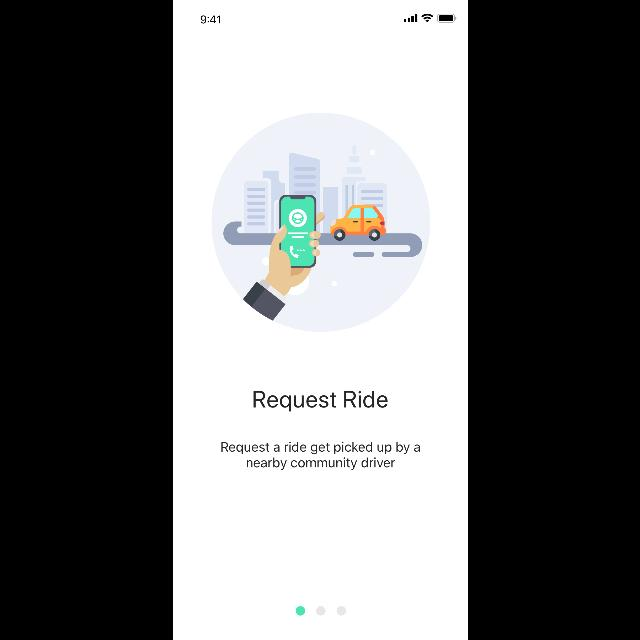image: (210, 112, 430, 332)
pageindicator: (294, 606, 346, 616)
text: (220, 442, 420, 471), (252, 390, 388, 412)
uppertaskbar: (200, 14, 456, 24)
